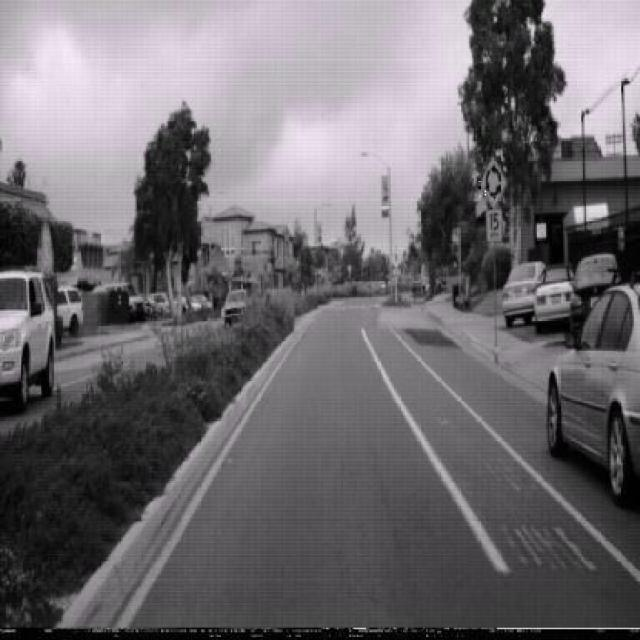roundabout: (478, 152, 508, 211)
